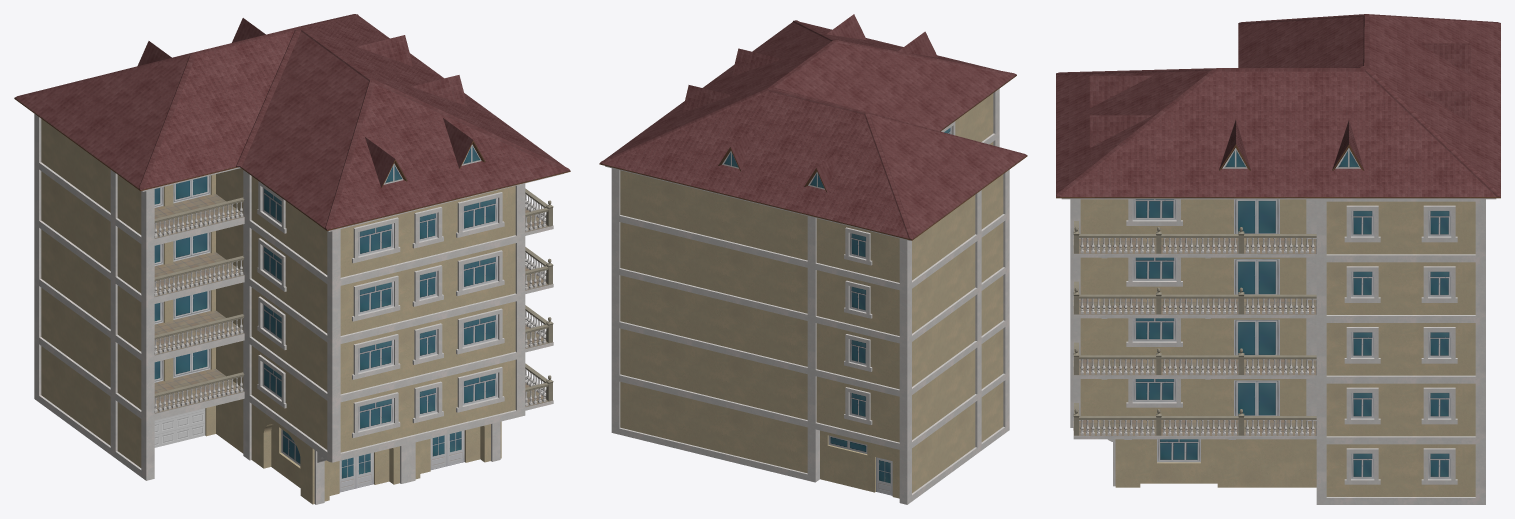
Rendered from colonial_style_hotel__residential_building.glb.
The picture shows the model from 3 angles, left to right: view 1: azimuth 30°, elevation 25°; view 2: azimuth 150°, elevation 25°; view 3: azimuth 270°, elevation 25°; orthographic projection. The views are drawn at different scales.
Visible parts, largest first — view 1: polySurface651, polySurface651_Roof_0, polySurface651_Main_Body_0.001; view 2: polySurface651, polySurface651_Roof_0; view 3: polySurface651, polySurface651_Roof_0, polySurface651_Main_Body_0.001.
Part boxes in pixels (x1=…): polySurface651: x1=34, y1=114, x2=553, y2=504; polySurface651_Roof_0: x1=14, y1=14, x2=570, y2=231; polySurface651_Main_Body_0.001: x1=525, y1=252, x2=553, y2=406; polySurface651: x1=611, y1=89, x2=1009, y2=504; polySurface651_Roof_0: x1=599, y1=14, x2=1027, y2=240; polySurface651: x1=1070, y1=148, x2=1485, y2=504; polySurface651_Roof_0: x1=1056, y1=14, x2=1500, y2=199; polySurface651_Main_Body_0.001: x1=1073, y1=281, x2=1316, y2=435.
Bounding box in the file's own units: 0.3107 × 0.3144 × 0.3358.
Materials: 2 (2 with a texture image).
